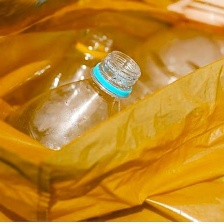bottle: (6, 47, 142, 158), (17, 24, 117, 118)
